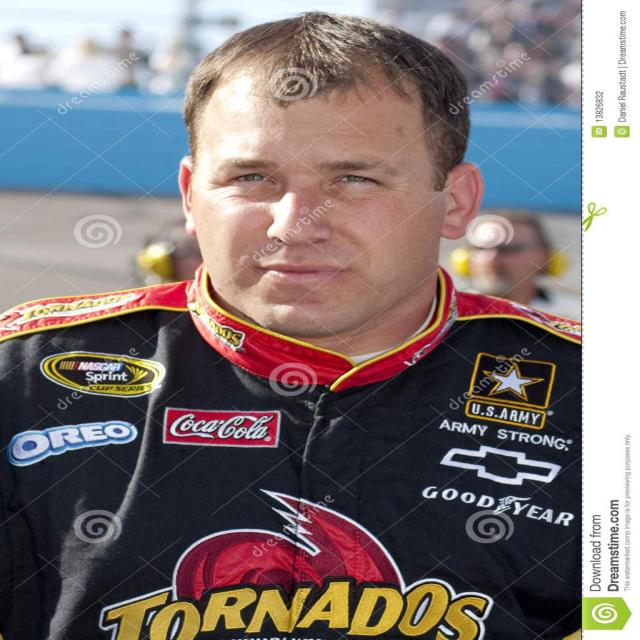Face: (183, 61, 445, 337)
